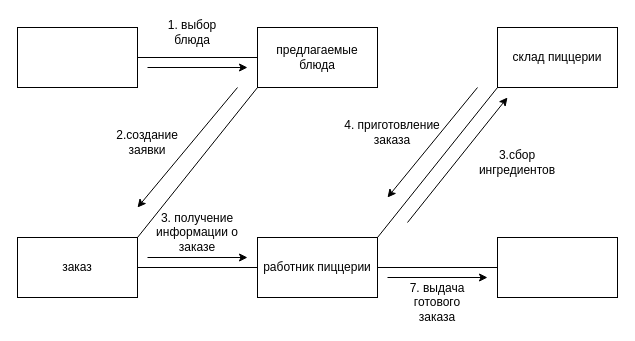
The diagram is 635 pixels wide and 341 high, and some of its shapes have lost their labels. The shapes that lost their labels are listed below. From the top down, each one's box as (x1, y1, x2, y2) in pixels, then its label:
(16, 26, 138, 88): Клиент
(496, 236, 618, 298): полученный заказ
